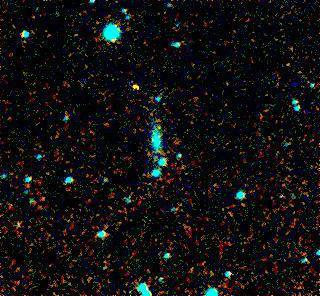star: (122, 71, 152, 101)
